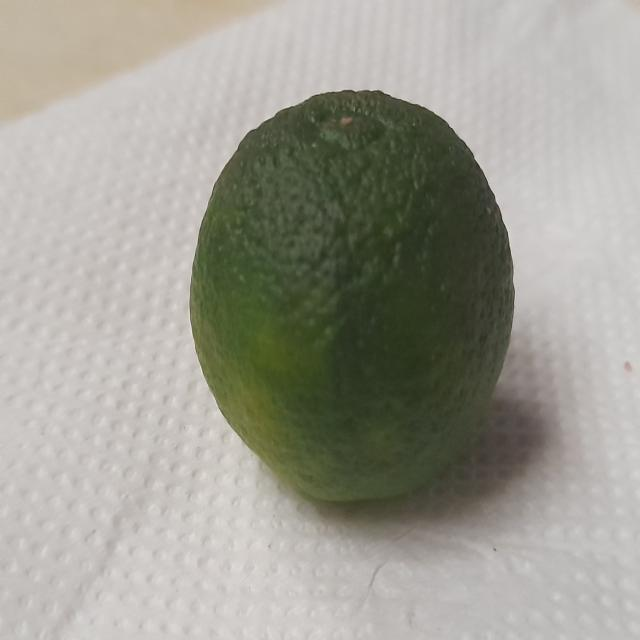heathy: (188, 82, 517, 516)
